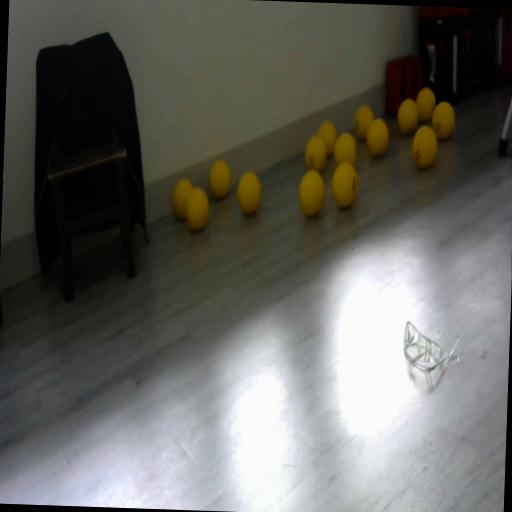FUEL: (297, 168, 326, 217), (330, 161, 358, 209), (234, 170, 262, 216), (410, 124, 438, 168), (430, 100, 456, 141), (170, 176, 194, 220), (207, 158, 232, 200), (365, 118, 389, 158), (333, 132, 357, 168), (396, 97, 418, 135), (415, 86, 436, 123), (316, 120, 336, 158)
